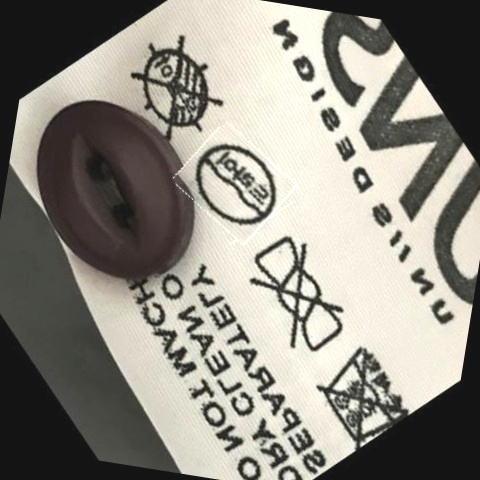DN_dry: (124, 36, 229, 142)
DN_wring: (238, 238, 356, 356)
dry_clean: (187, 136, 282, 233)
hand_wash: (312, 337, 411, 445)
